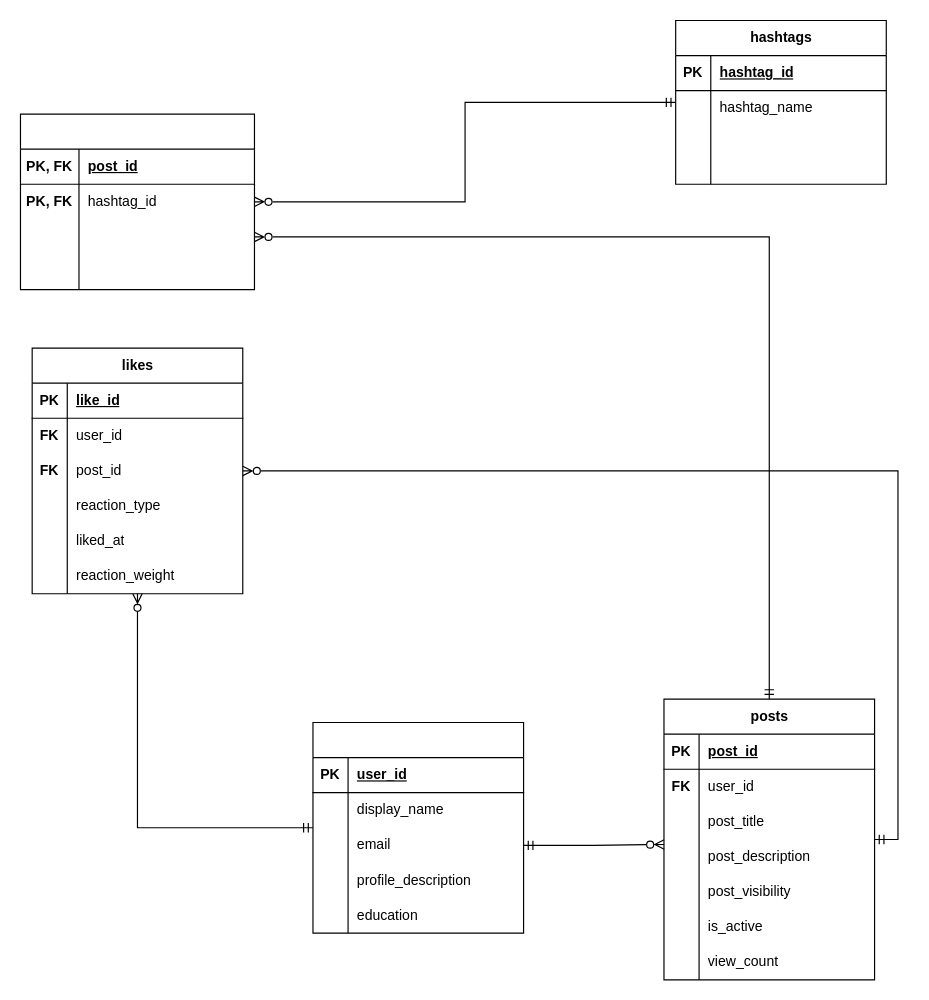
The diagram is 929 pixels wide and 1000 high, and some of its shapes have lost their labels. The box of each missing label's shape, as (x1, y1, x2, y2) in pixels:
post_hashtags_mapping: (19, 113, 254, 290)
users: (312, 721, 524, 933)
